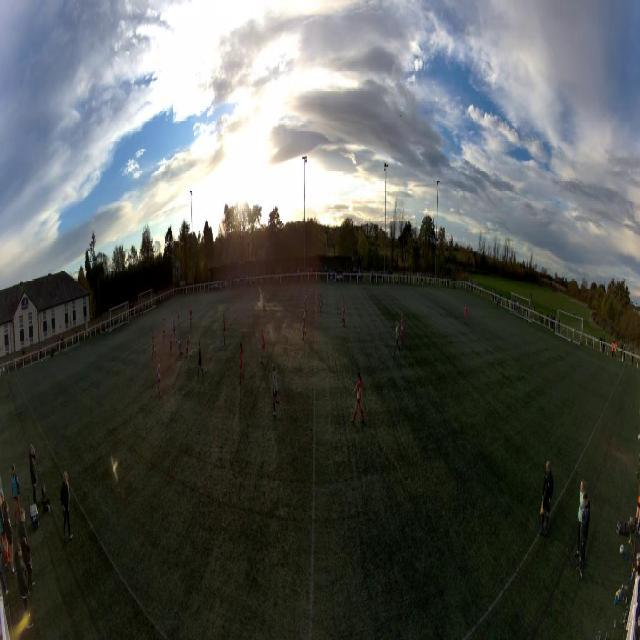ball: (190, 351, 192, 357)
player: (352, 370, 366, 427), (270, 363, 282, 419), (393, 321, 401, 357), (197, 341, 204, 379), (261, 328, 268, 364), (239, 342, 244, 384), (157, 357, 162, 397), (302, 310, 307, 340), (151, 332, 156, 360), (176, 338, 184, 355), (341, 297, 345, 327), (400, 313, 404, 343), (169, 327, 173, 355), (185, 335, 190, 357), (303, 293, 307, 317), (173, 318, 177, 342), (223, 314, 226, 344), (319, 295, 323, 317), (464, 304, 468, 325), (317, 294, 321, 315), (163, 319, 166, 341), (190, 307, 192, 328), (178, 307, 180, 326), (119, 318, 121, 330)
